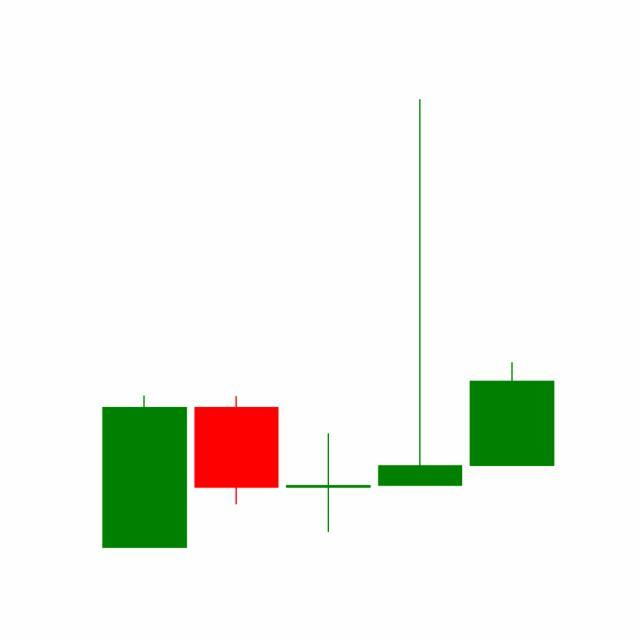Marubozu: (466, 362, 559, 468)
